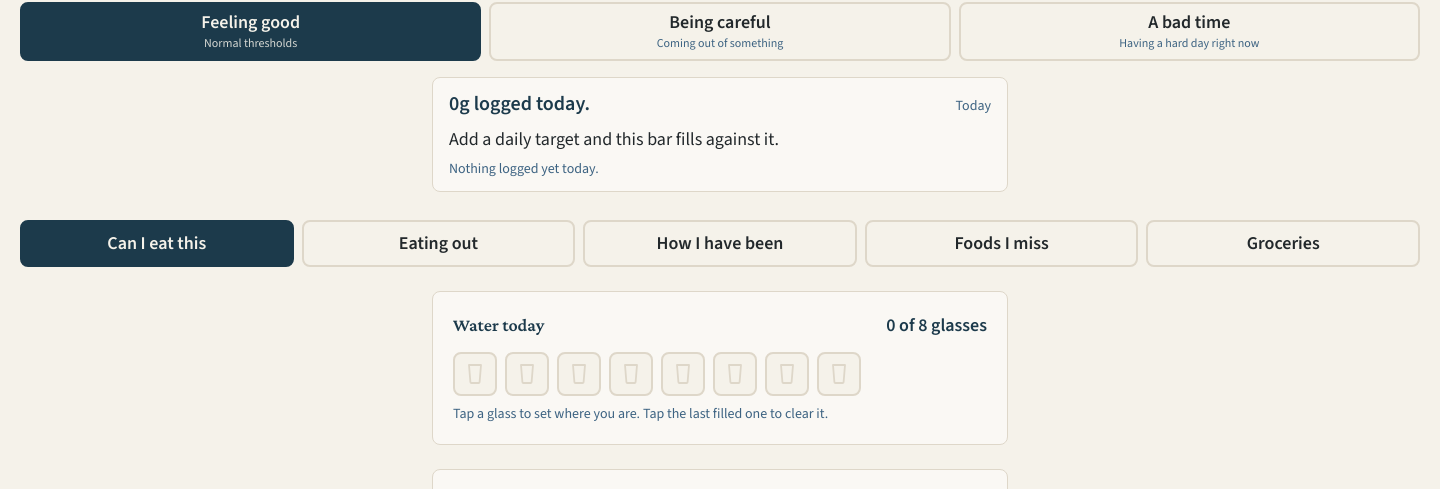
Scenario: appointment prep, spec 5.6 › keeps the never-causal framing above any food it names
(page scrolled)
Click the tab "How I have been": (720, 243) [583, 220, 857, 267]
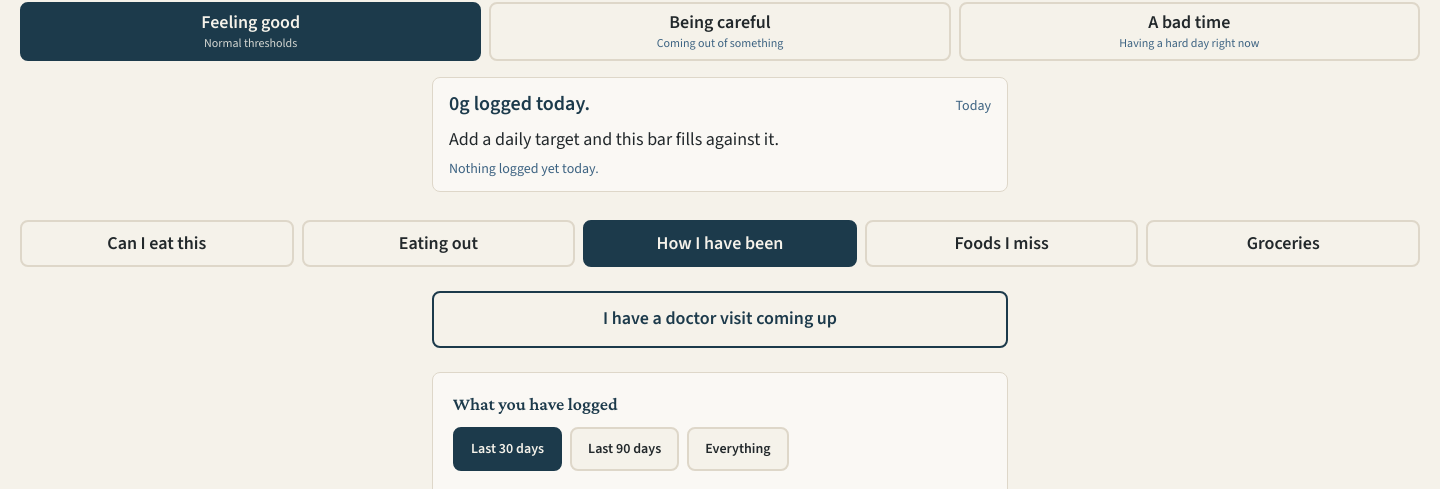
Click the button "I have a doctor visit coming up": (720, 319) [432, 291, 1008, 348]
(page scrolled)
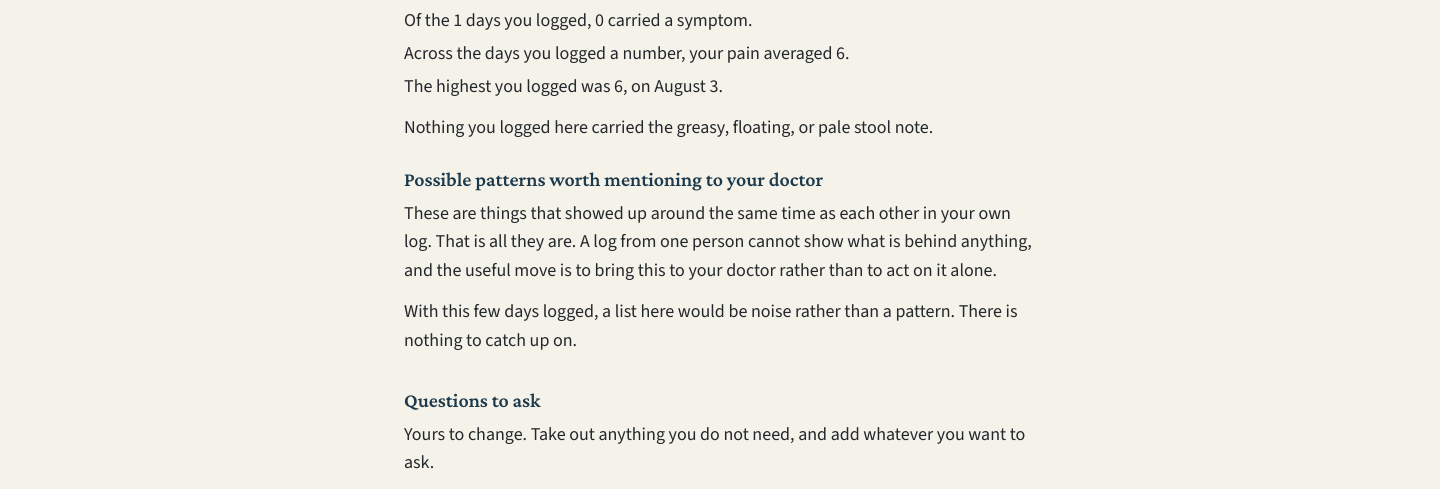
Now the heading "Possible patterns worth mentioning to your doctor" is shown, box [404, 168, 823, 190]
Now the text "These are things that showed up around the same time as each other in your own log. That is all they are. A log from one" is shown, box [404, 201, 1032, 283]
